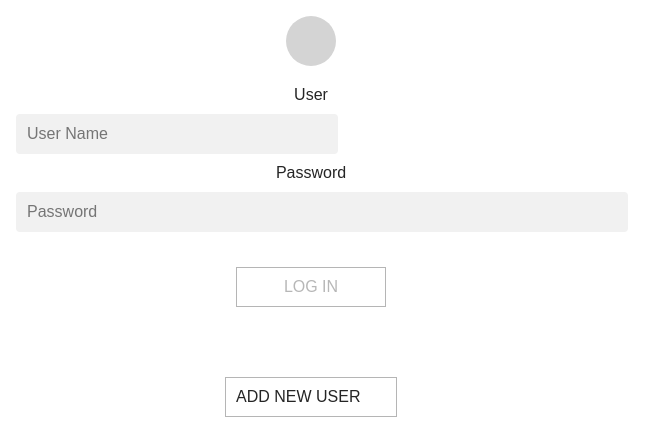
log in button
The width and height of the screenshot is (645, 434).
Check: the button "Log In" is disabled, box [236,267,386,307]
// enter text in user name input field
Type "mthornton" into the field labelled "User". click: [177, 134]
box: [16,114,338,154]
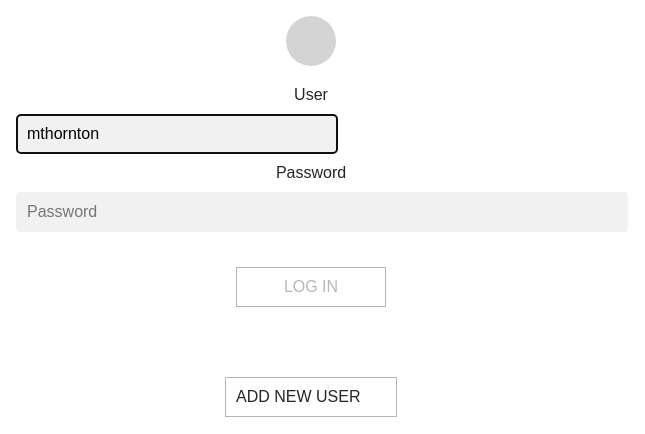
Check: the button "Log In" is disabled, box [236,267,386,307]
// enter password text to field - 5 characters
Type "pass1" into the field labelled "Password". click: [322, 212]
box: [16,192,628,232]
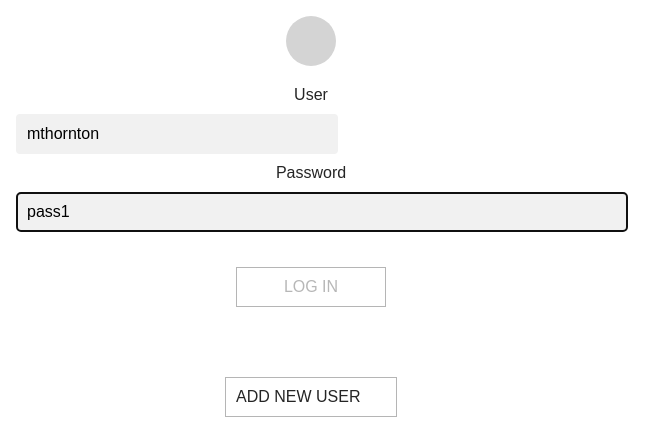
Check: the button "Log In" is disabled, box [236,267,386,307]
// required 7 characters for password
Type "2" into the field labelled "Password". click: [322, 212]
box: [16,192,628,232]
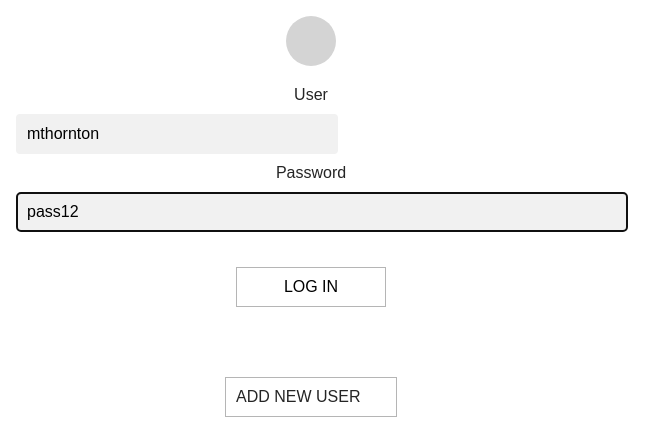
Check: the button "Log In" is enabled, box [236,267,386,307]
